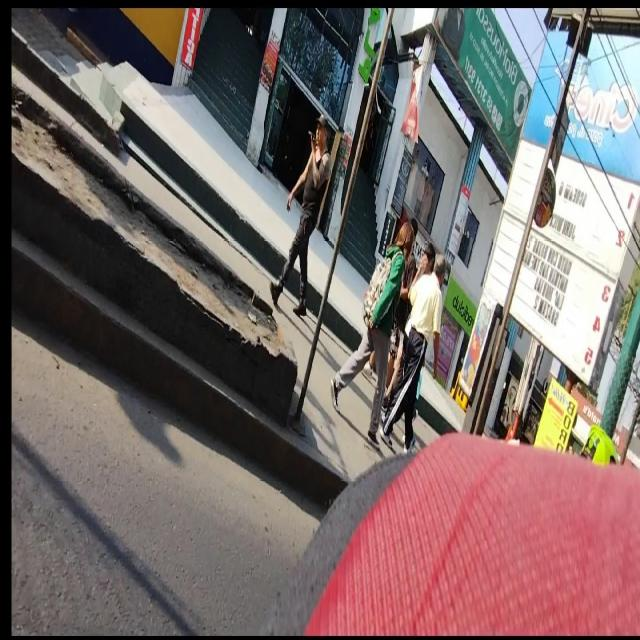adult: (329, 224, 414, 445), (381, 254, 446, 454), (269, 115, 330, 319)
